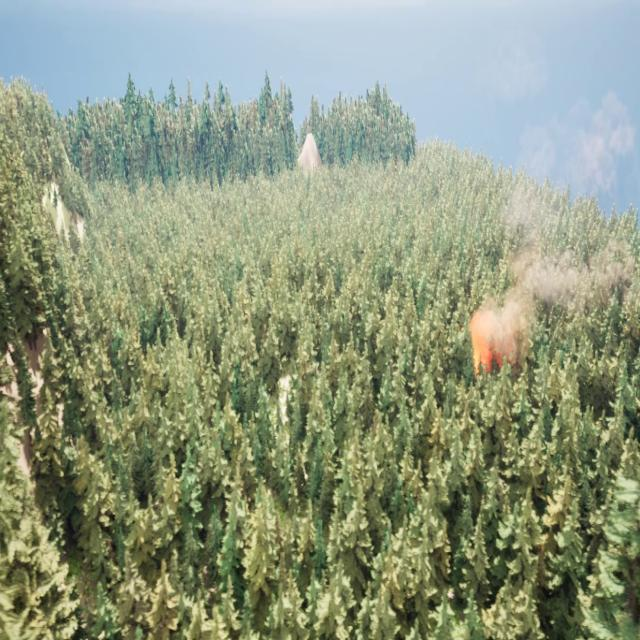fire: (472, 340, 494, 373)
smoke: (470, 85, 640, 368)
